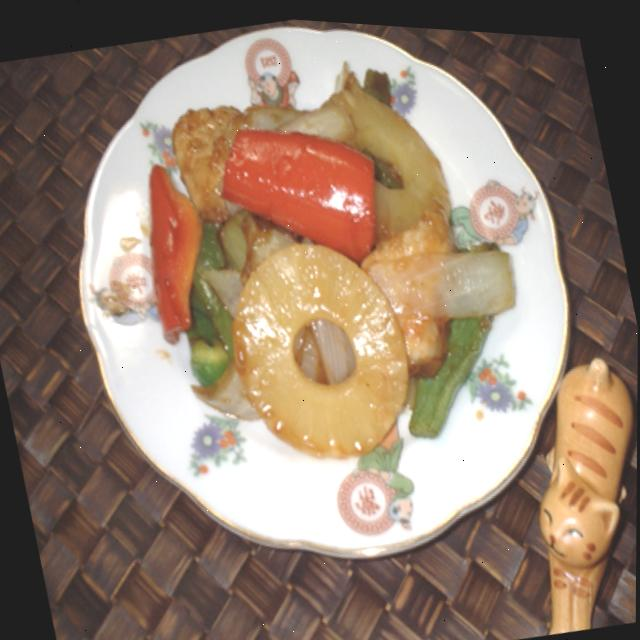猪肉菜式: (111, 7, 551, 483)
